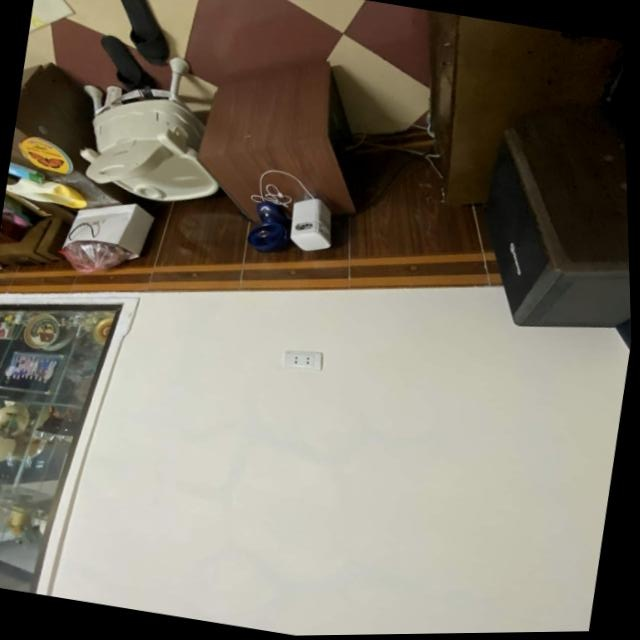outlet: (280, 347, 324, 375)
